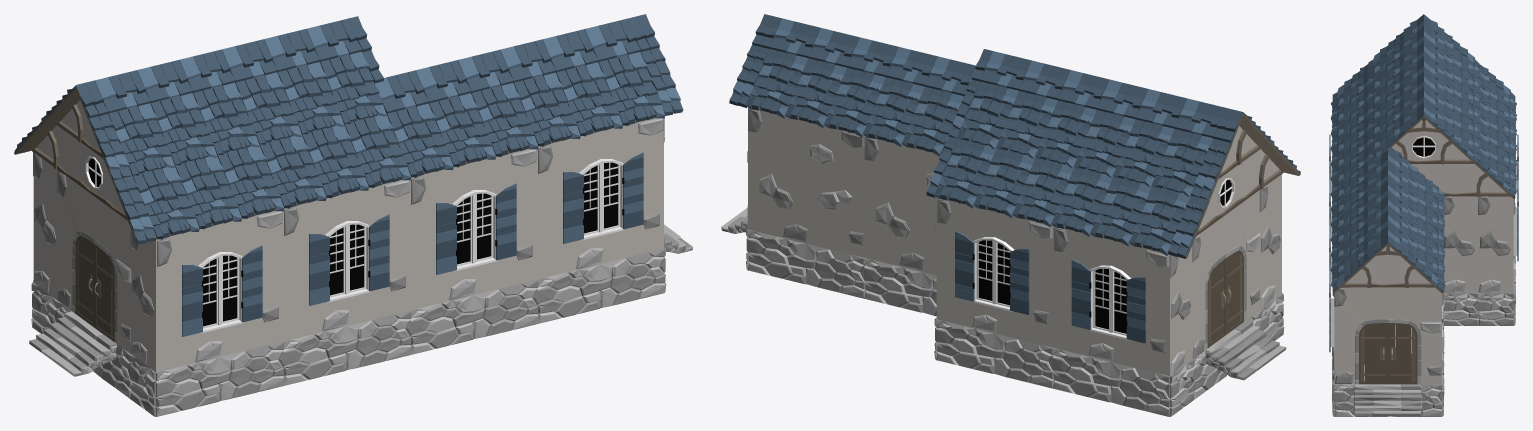
File: house_14.fbx
3 views of the same model, side by side, from view 1: azimuth 30°, elevation 25°; view 2: azimuth 150°, elevation 25°; view 3: azimuth 270°, elevation 25° (orthographic). The views are drawn at different scales.
Parts seen in each view (by area): view 1: WINDOW_04_4, WINDOW_04_3, WINDOW_04_2, WINDOW_04_5, DOOR_01_3, FOUNDATION_01_2, FOUNDATION_01_3, FOUNDATION_01_5, FOUNDATION_01_4, STAIRS_03_3, WALL_03_3, WALL_03_2 (+43 smaller); view 2: WINDOW_04_7, WALL_05_3, WINDOW_04_6, WALL_05_4, DOOR_01_3, FOUNDATION_01_10, FOUNDATION_01_9, FOUNDATION_01_7, FOUNDATION_01_8, STAIRS_03_3, WALL_03_3, WALL_03_2 (+43 smaller); view 3: DOOR_01_4, WALL_03_4, WALL_03_5, STAIRS_03_2, FOUNDATION_01_6, FOUNDATION_03_4, ROOF_TRIANGLE_WOOD_6, ROOF_TRIANGLE_WOOD_5, ROOF_TRIANGLE_WINDOW_ROUND_3, FOUNDATION_03_5, ROOF_base_74, ROOF_base_96 (+72 smaller).
Part boxes in pixels (x1,y1,x2,y2): WINDOW_04_4: (410, 148, 536, 310); WINDOW_04_3: (283, 179, 409, 341); WINDOW_04_2: (156, 210, 282, 372); WINDOW_04_5: (537, 118, 663, 279); DOOR_01_3: (57, 169, 131, 354); FOUNDATION_01_2: (155, 341, 284, 416); FOUNDATION_01_3: (282, 310, 411, 385); FOUNDATION_01_5: (536, 248, 665, 323); FOUNDATION_01_4: (409, 279, 538, 354); STAIRS_03_3: (29, 311, 116, 376); WALL_03_3: (33, 152, 57, 299); WALL_03_2: (130, 229, 158, 372); WINDOW_04_7: (936, 197, 1053, 347); WALL_05_3: (748, 107, 864, 257); WINDOW_04_6: (1053, 226, 1169, 375); WALL_05_4: (864, 136, 939, 275); DOOR_01_3: (1192, 190, 1260, 359); FOUNDATION_01_10: (1052, 348, 1170, 416); FOUNDATION_01_9: (935, 319, 1053, 388); FOUNDATION_01_7: (747, 229, 865, 298); FOUNDATION_01_8: (863, 258, 936, 316); STAIRS_03_3: (1205, 320, 1286, 380); WALL_03_3: (1167, 246, 1192, 376); WALL_03_2: (1259, 174, 1281, 309); DOOR_01_4: (1334, 287, 1441, 384); WALL_03_4: (1477, 196, 1513, 293); WALL_03_5: (1443, 196, 1477, 293); STAIRS_03_2: (1353, 384, 1421, 415); FOUNDATION_01_6: (1334, 384, 1441, 416); FOUNDATION_03_4: (1477, 293, 1513, 325); ROOF_TRIANGLE_WOOD_6: (1442, 164, 1477, 196); ROOF_TRIANGLE_WOOD_5: (1370, 254, 1405, 287); ROOF_TRIANGLE_WINDOW_ROUND_3: (1406, 131, 1441, 163); FOUNDATION_03_5: (1443, 293, 1477, 325); ROOF_base_74: (1366, 114, 1403, 161); ROOF_base_96: (1408, 192, 1445, 238).
Bounding box in the file's own units: 1408 × 659 × 529.
